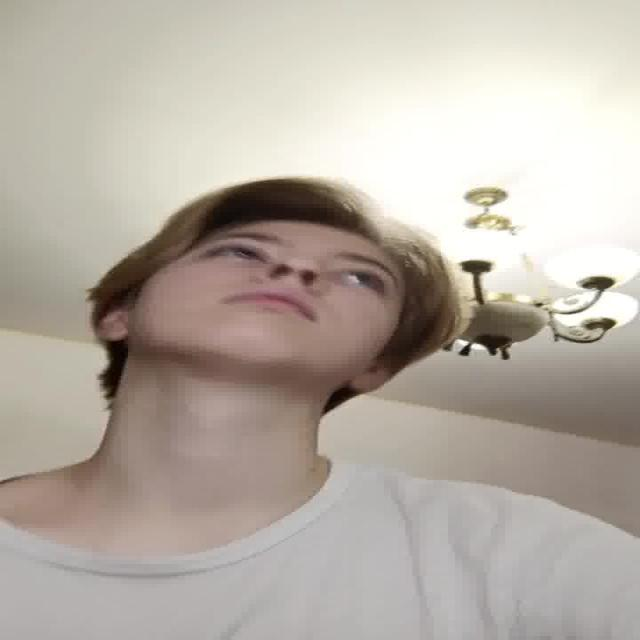earlobe: (348, 356, 397, 392), (95, 304, 128, 342)
